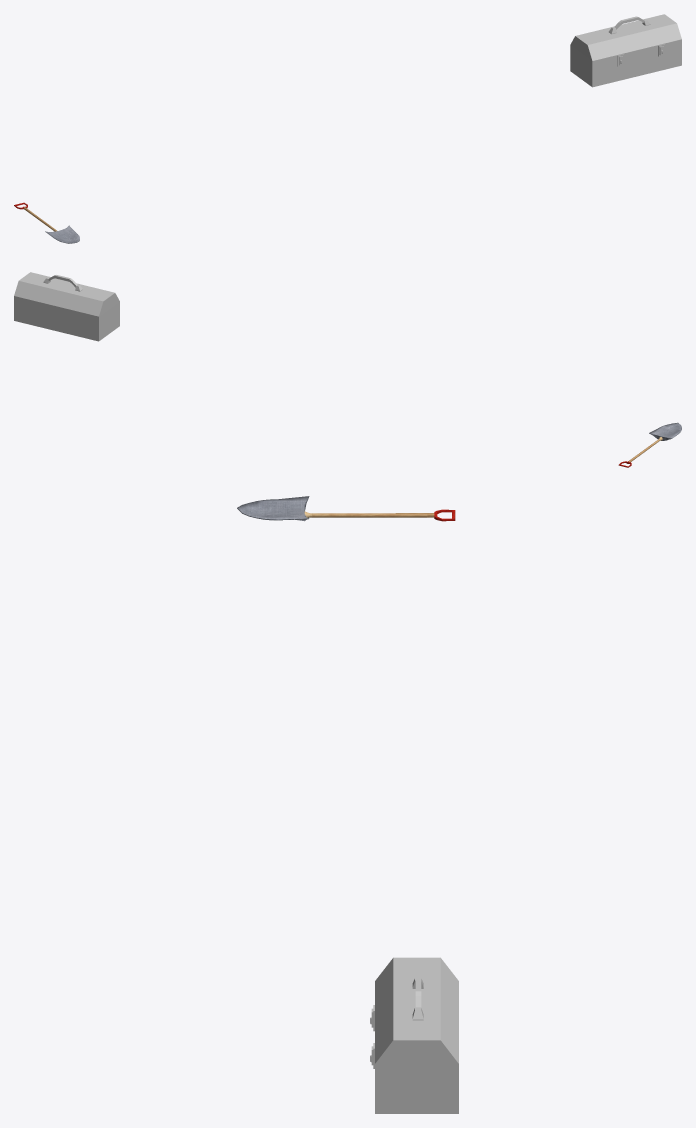
File: 3D_ENVTO_001.FBX
3 views of the same model, one above another, from view 1: azimuth 30°, elevation 25°; view 2: azimuth 150°, elevation 25°; view 3: azimuth 270°, elevation 25° (orthographic). The views are drawn at different scales.
Visible parts, largest first — view 1: Doos, Cylinder001; view 2: Doos, Cylinder001; view 3: Doos, Cylinder001.
Part boxes in pixels (box(x1,y1,x2,y2)): Doos: box(570, 14, 681, 87); Cylinder001: box(14, 202, 79, 243); Doos: box(14, 272, 119, 341); Cylinder001: box(618, 422, 681, 467); Doos: box(370, 957, 458, 1113); Cylinder001: box(237, 496, 455, 521).
Size of the model in its own units: 7050 by 498 by 1093.
